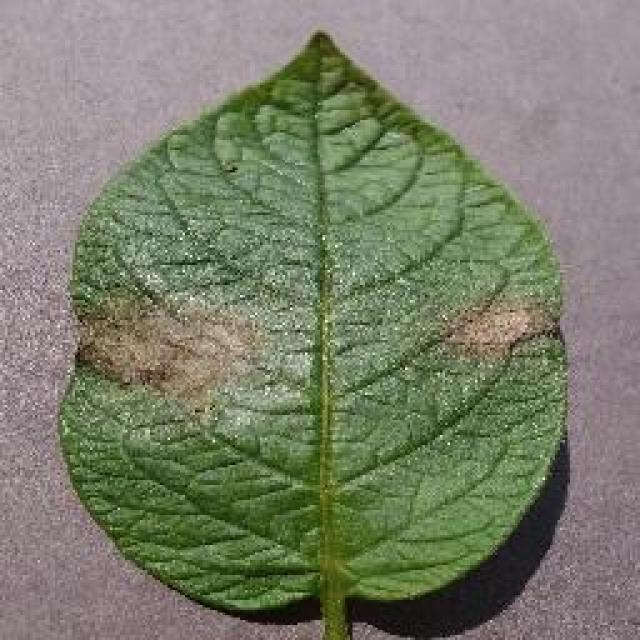late_blight: (52, 25, 572, 627)
